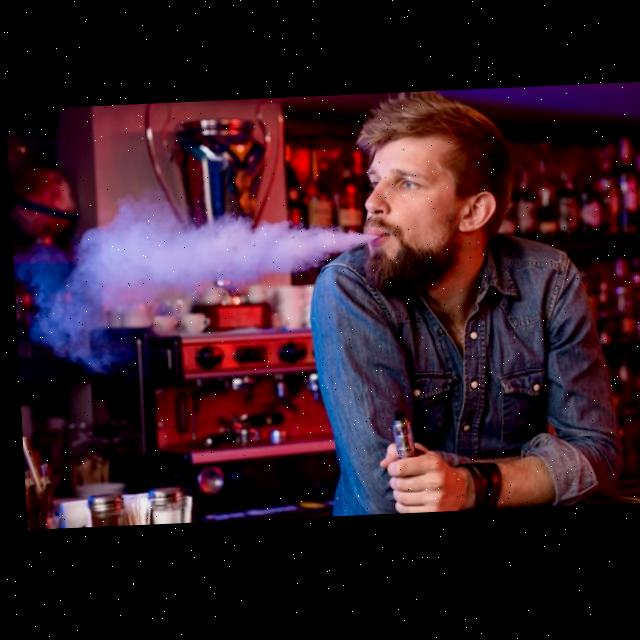vape: (387, 414, 412, 463)
